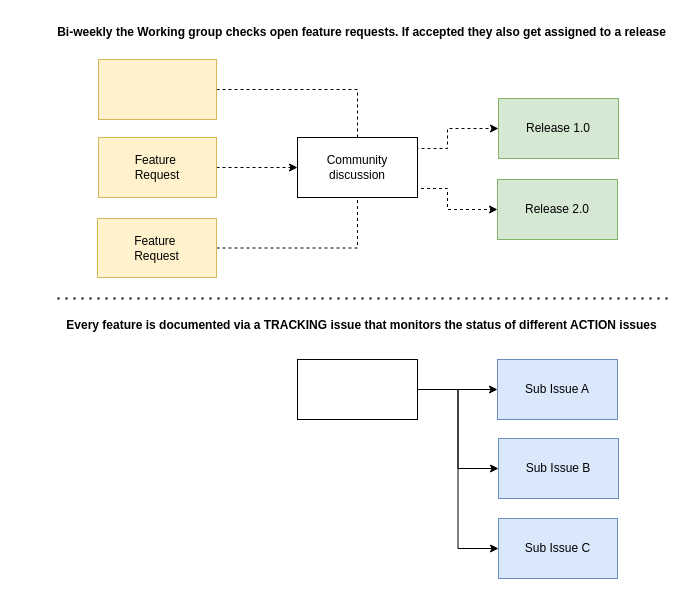
Image size: 687x596. Some labels were removed from this diagram. Each missing label, with the centre of its shape:
"Feature Request X" goes at [157,89].
"Feature X" goes at [357,389].
